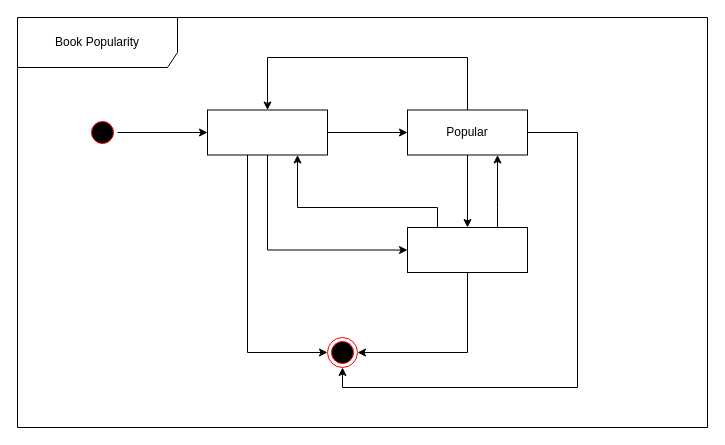
Image size: 725x445. Some labels were removed from this diagram. The centre of each missing label's shape, as x and y in pixels:
"Trending" belongs at point (467, 249).
"Unpopular" belongs at point (267, 132).
